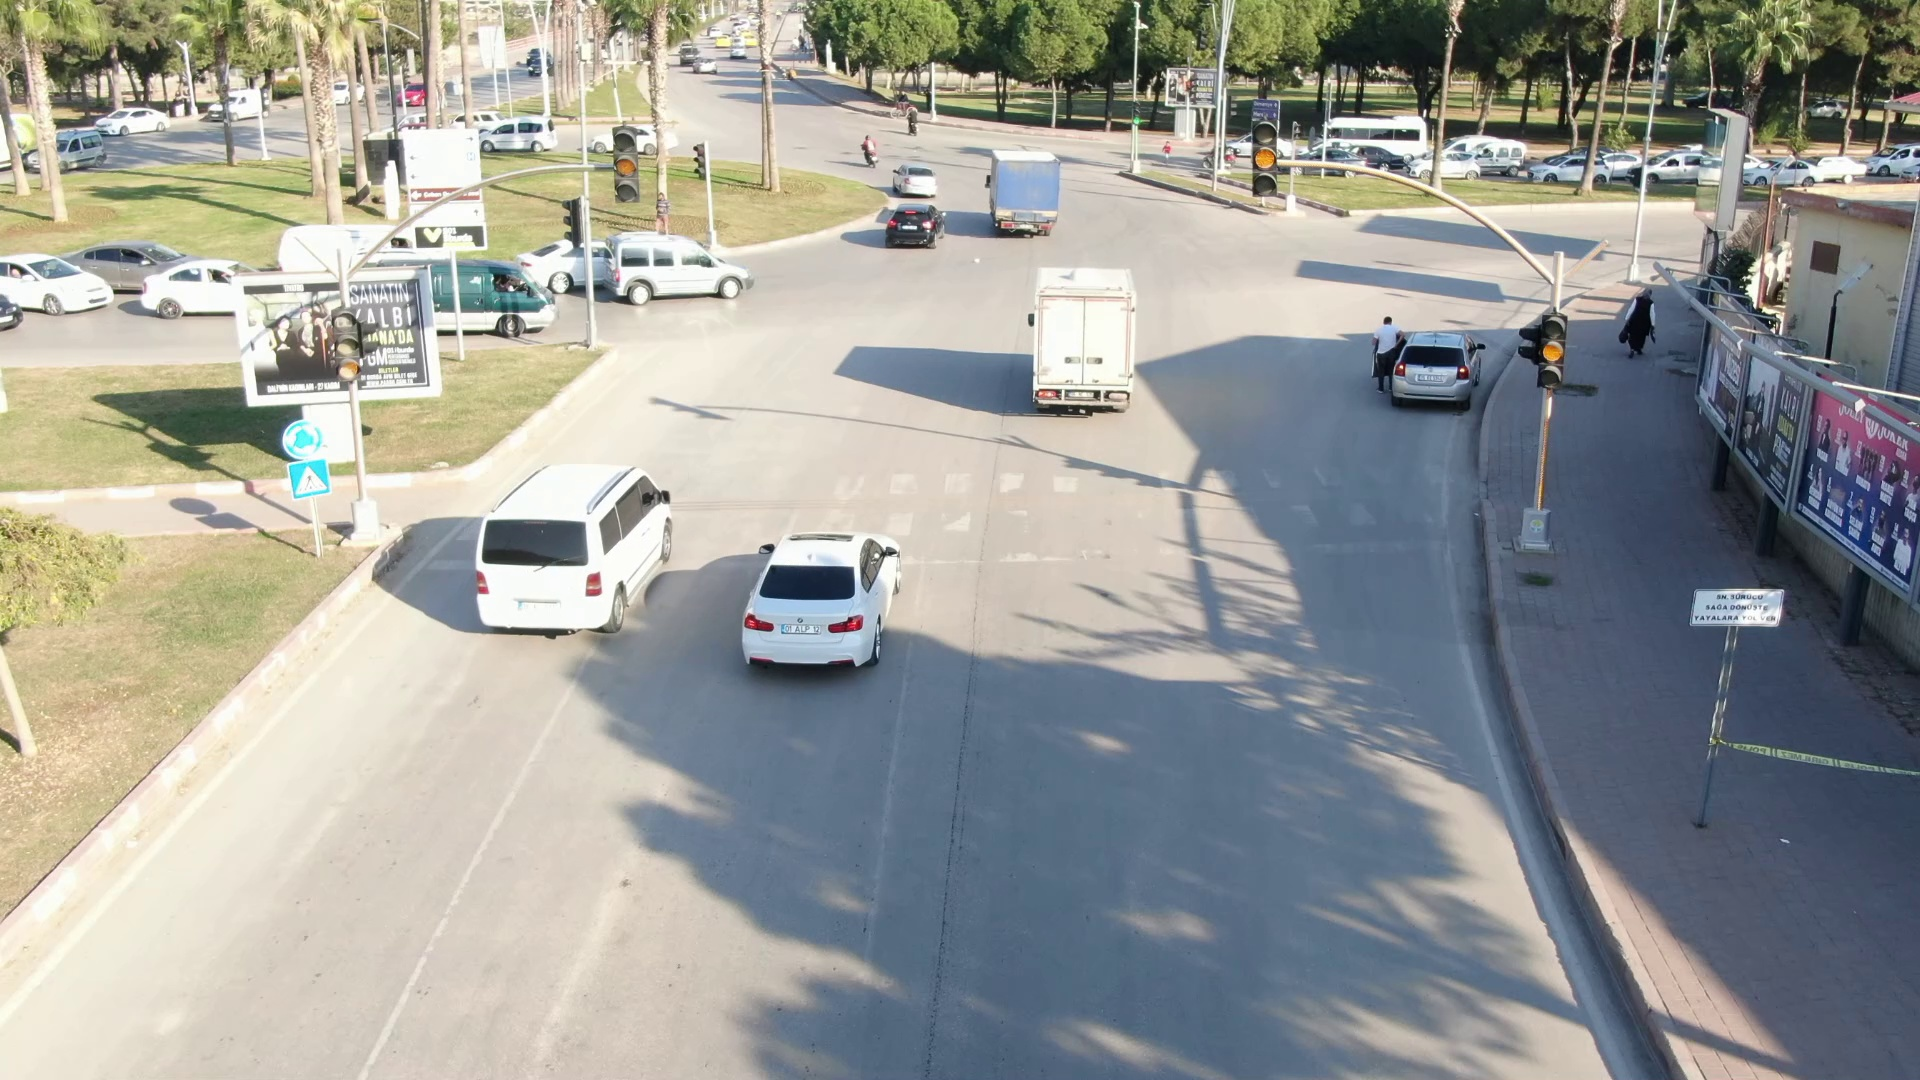car: (448, 453, 678, 669), (724, 509, 912, 695), (1022, 259, 1147, 427), (597, 222, 762, 317), (970, 148, 1078, 241), (1391, 326, 1494, 415), (479, 116, 567, 160), (876, 203, 954, 252), (884, 163, 942, 202)
person: (1618, 280, 1662, 366), (1367, 308, 1402, 400)
